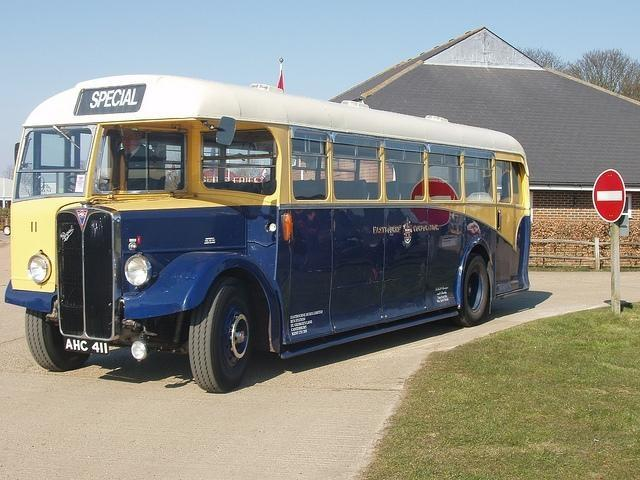bus: (4, 76, 530, 400)
